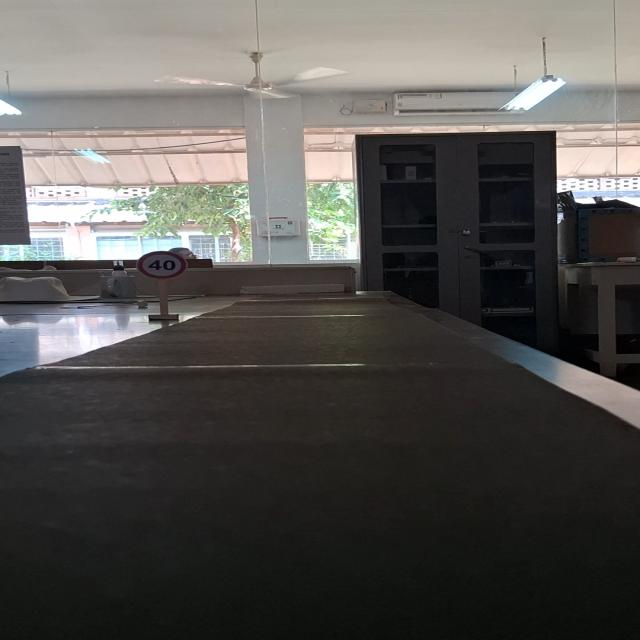Speed40: (135, 250, 189, 280)
